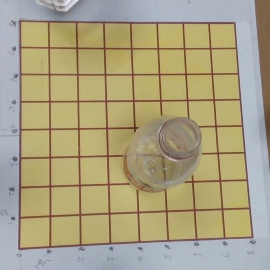bottle: (109, 115, 202, 195)
